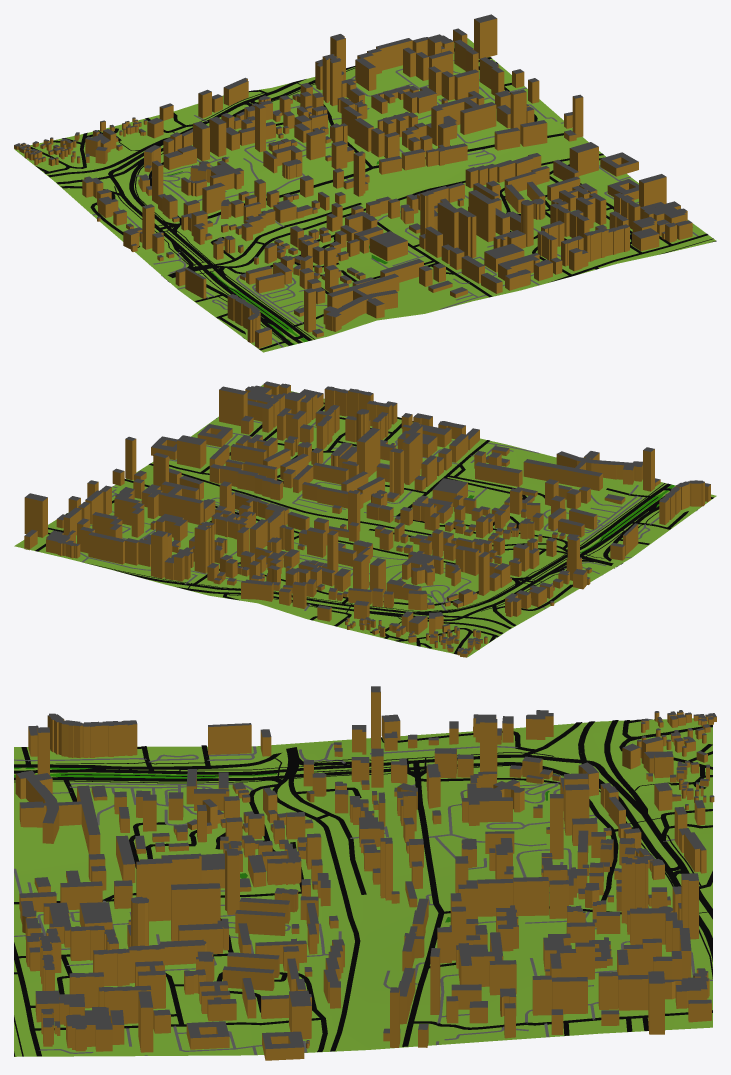
The model's file is tile_01_04.glb.
The picture shows the model from 3 angles, top to bottom: view 1: azimuth 30°, elevation 25°; view 2: azimuth 150°, elevation 25°; view 3: azimuth 270°, elevation 25°; orthographic projection. The views are drawn at different scales.
Parts seen in each view (by area): view 1: Ub_small.osm_buildings_01_04, Terrain_01_04, Ub_small.osm_roads_primary_01_04, Ub_small.osm_roads_residential_01_04, Ub_small.osm_roads_service_01_04, Ub_small.osm_roads_secondary_01_04, Ub_small.osm_roads_unclassified_01_04, Ub_small.osm_paths_footway_01_04; view 2: Ub_small.osm_buildings_01_04, Terrain_01_04, Ub_small.osm_roads_residential_01_04, Ub_small.osm_roads_primary_01_04, Ub_small.osm_roads_service_01_04, Ub_small.osm_roads_secondary_01_04, Ub_small.osm_paths_footway_01_04, Ub_small.osm_roads_unclassified_01_04, Ub_small.osm_vegetation_01_04; view 3: Ub_small.osm_buildings_01_04, Terrain_01_04, Ub_small.osm_roads_residential_01_04, Ub_small.osm_roads_service_01_04, Ub_small.osm_roads_primary_01_04, Ub_small.osm_roads_secondary_01_04, Ub_small.osm_roads_unclassified_01_04, Ub_small.osm_paths_footway_01_04, Ub_small.osm_vegetation_01_04.
Part boxes in pixels (x1,y1,x2,y2): Ub_small.osm_buildings_01_04: (14, 14, 692, 348); Terrain_01_04: (14, 38, 715, 352); Ub_small.osm_roads_primary_01_04: (108, 66, 355, 345); Ub_small.osm_roads_residential_01_04: (30, 57, 672, 350); Ub_small.osm_roads_service_01_04: (92, 60, 698, 347); Ub_small.osm_roads_secondary_01_04: (48, 133, 563, 279); Ub_small.osm_roads_unclassified_01_04: (212, 48, 708, 282); Ub_small.osm_paths_footway_01_04: (114, 68, 713, 345); Ub_small.osm_buildings_01_04: (24, 381, 710, 657); Terrain_01_04: (14, 385, 716, 657); Ub_small.osm_roads_residential_01_04: (48, 406, 713, 654); Ub_small.osm_roads_primary_01_04: (112, 483, 671, 621); Ub_small.osm_roads_service_01_04: (76, 418, 659, 610); Ub_small.osm_roads_secondary_01_04: (124, 479, 619, 634); Ub_small.osm_paths_footway_01_04: (87, 392, 665, 623); Ub_small.osm_roads_unclassified_01_04: (35, 402, 567, 553); Ub_small.osm_vegetation_01_04: (580, 484, 674, 552); Ub_small.osm_buildings_01_04: (15, 686, 716, 1060); Terrain_01_04: (14, 718, 712, 1056); Ub_small.osm_roads_residential_01_04: (14, 719, 712, 1052); Ub_small.osm_roads_service_01_04: (14, 743, 712, 1055); Ub_small.osm_roads_primary_01_04: (14, 753, 712, 961); Ub_small.osm_roads_secondary_01_04: (284, 720, 647, 1046); Ub_small.osm_roads_unclassified_01_04: (14, 776, 712, 1056); Ub_small.osm_paths_footway_01_04: (14, 737, 712, 1056); Ub_small.osm_vegetation_01_04: (14, 767, 276, 778).
Size of the model in its own units: 1009 by 130 by 935.
